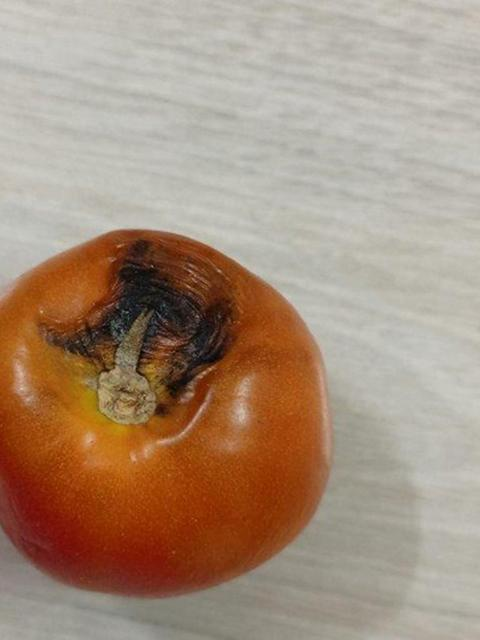defect: (0, 219, 355, 612)
